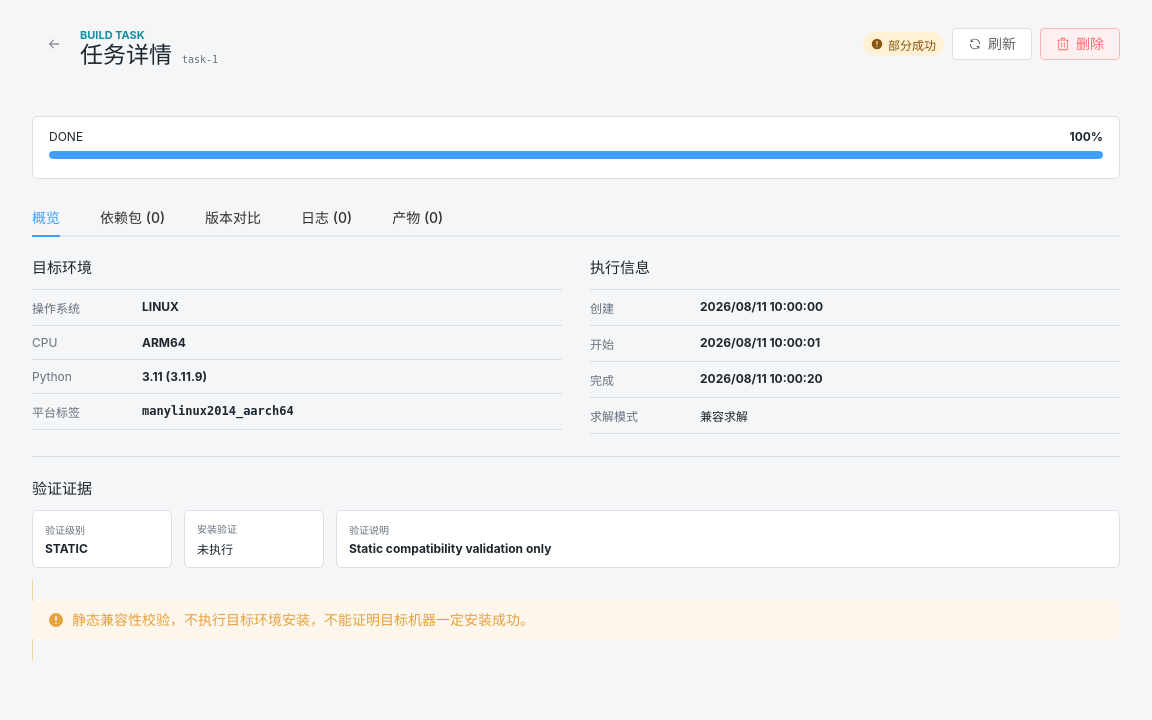
Scenario: TaskDetailView › shows partial success, static validation evidence, and version downgrade text
Check: the text "部分成功" is shown, box left=863, top=32, right=944, bottom=56
Check: the text "静态兼容性校验，不执行目标环境安装，不能证明目标机器一定安装成功。" is shown, box left=72, top=608, right=534, bottom=632
Click the tab "版本对比" at [233, 218], box left=205, top=209, right=261, bottom=226
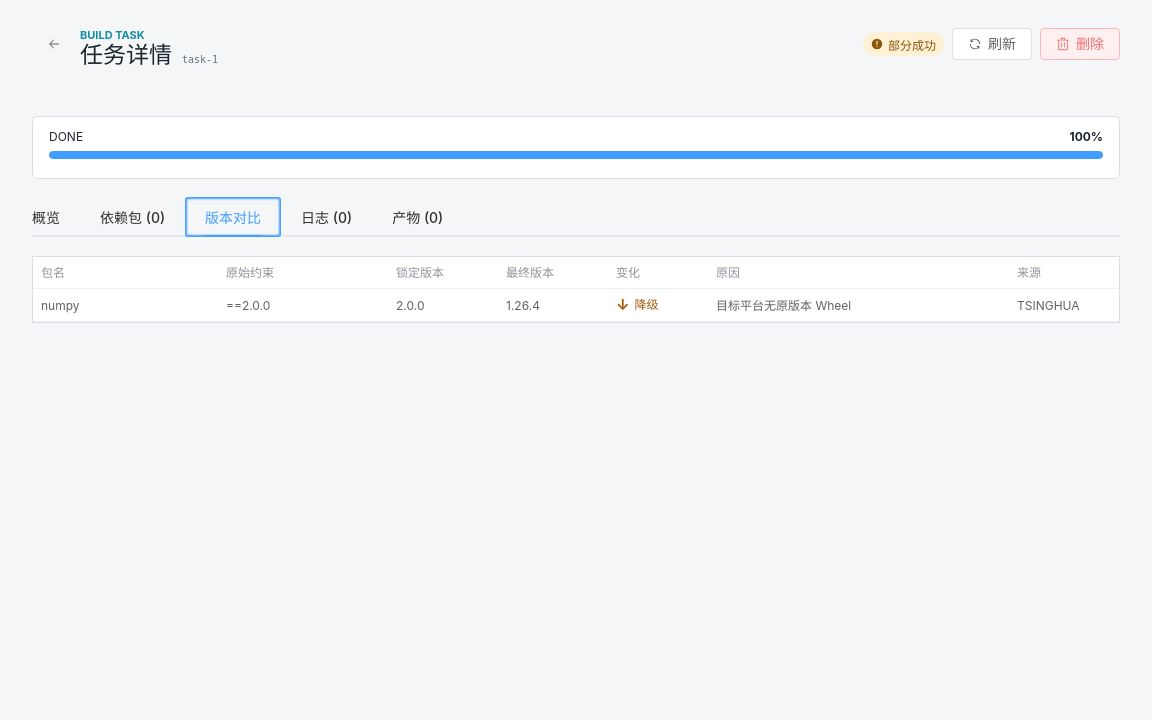
Check: the text "降级" is shown, box left=635, top=297, right=659, bottom=312
Check: the text "1.26.4" is shown, box left=506, top=298, right=540, bottom=312
